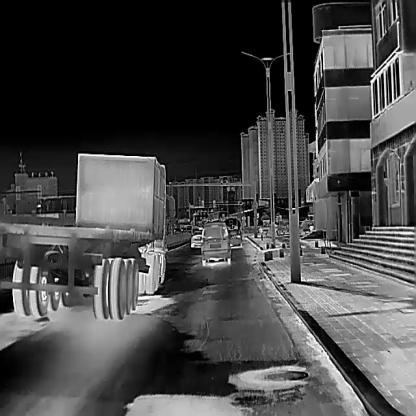car: (201, 222, 231, 264), (228, 228, 241, 245), (190, 230, 201, 247)
truck: (0, 152, 175, 318)
